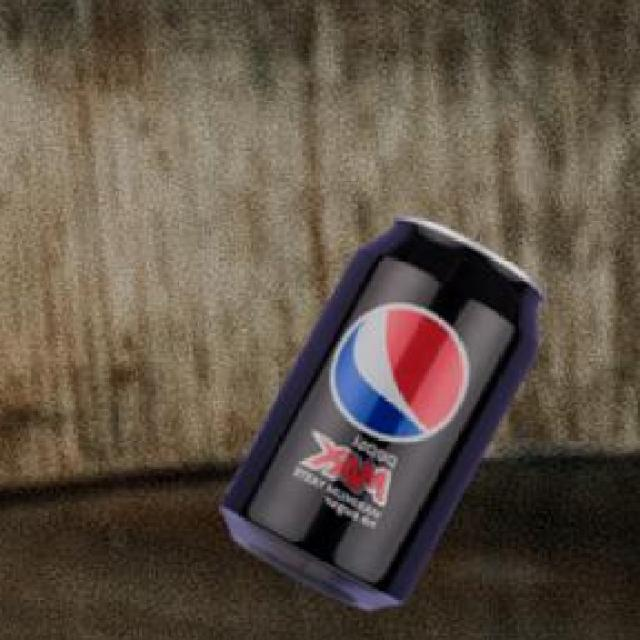logam: (226, 212, 546, 606)
